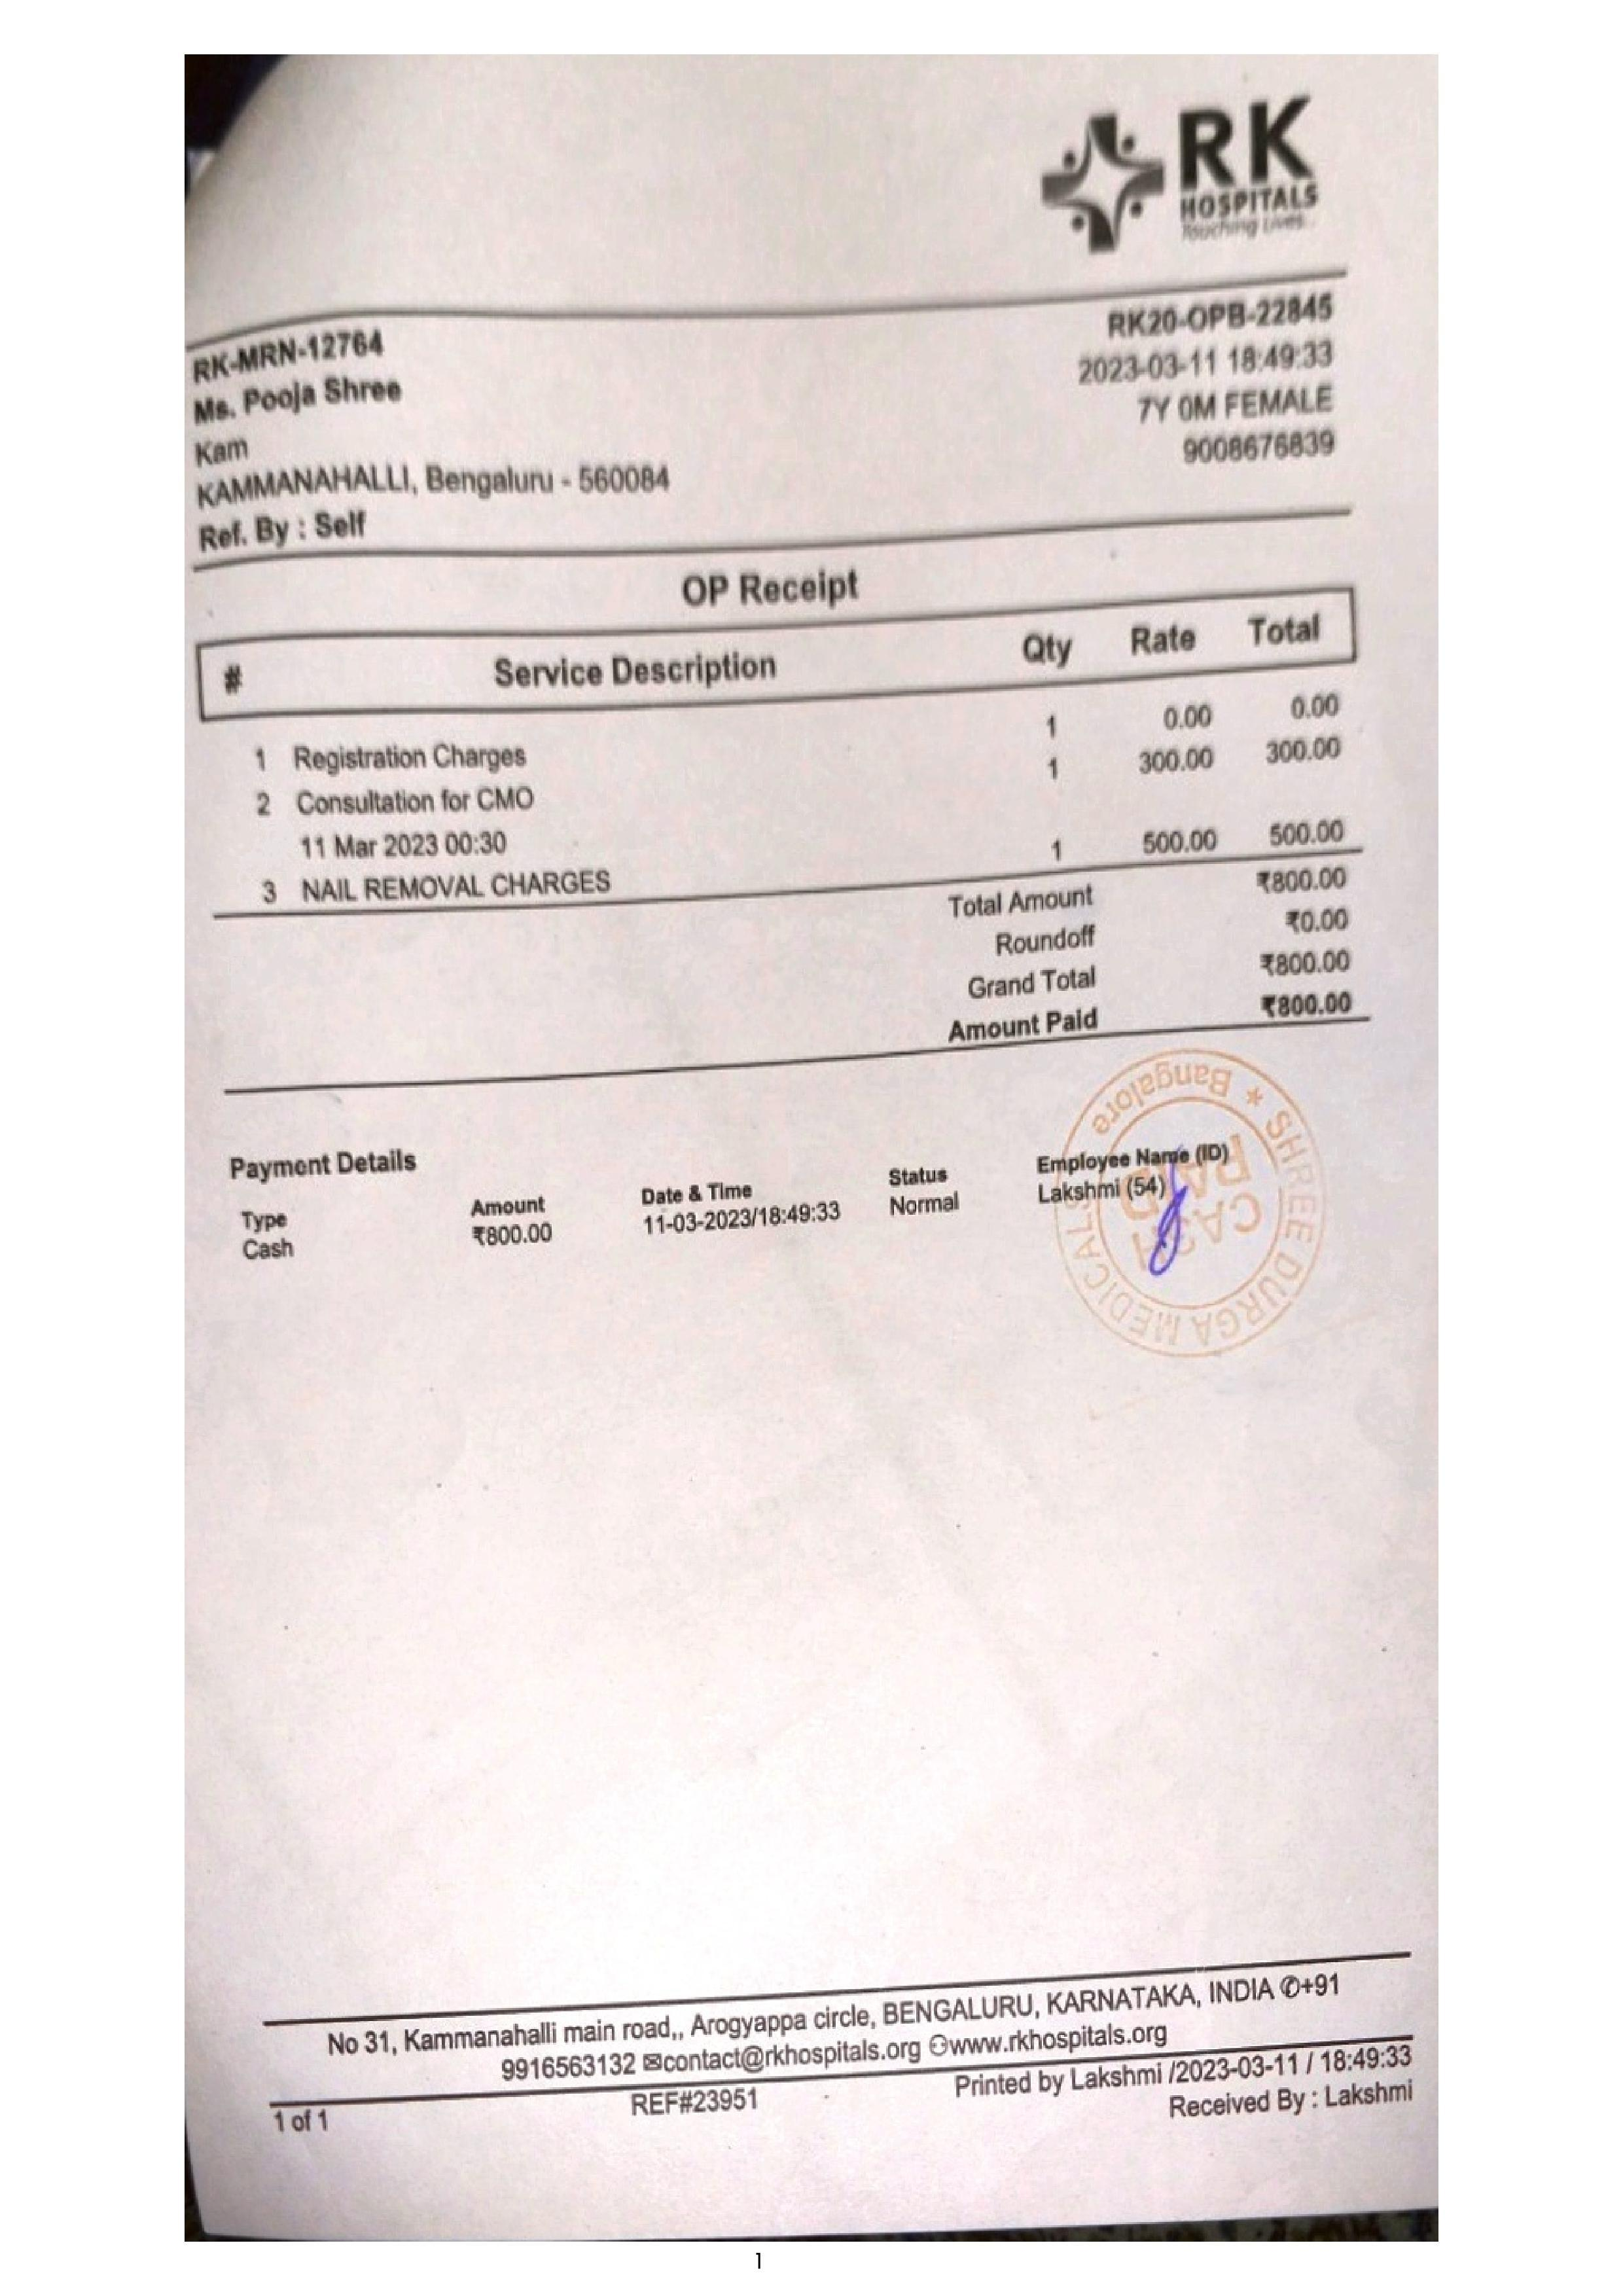InvoiceDate: (1077, 351, 1224, 390)
InvoiceNumber: (1096, 295, 1342, 341)
TotalAmount: (1238, 986, 1391, 1038)
